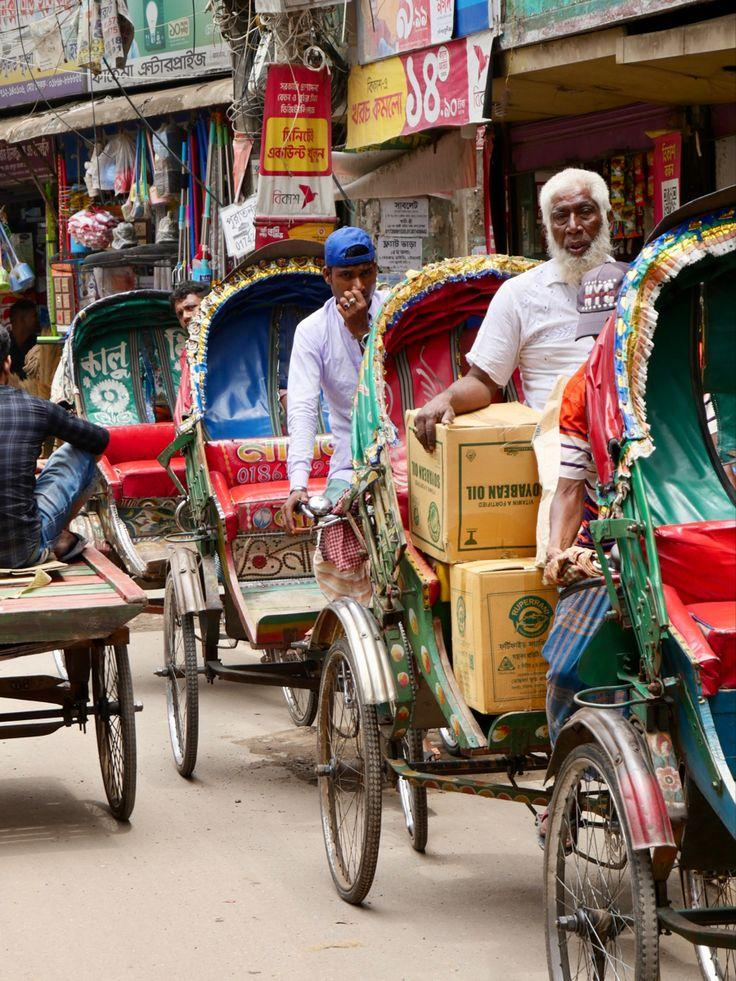Rickshaw: (308, 207, 735, 980), (545, 189, 735, 980), (159, 243, 331, 775), (65, 289, 185, 588)
